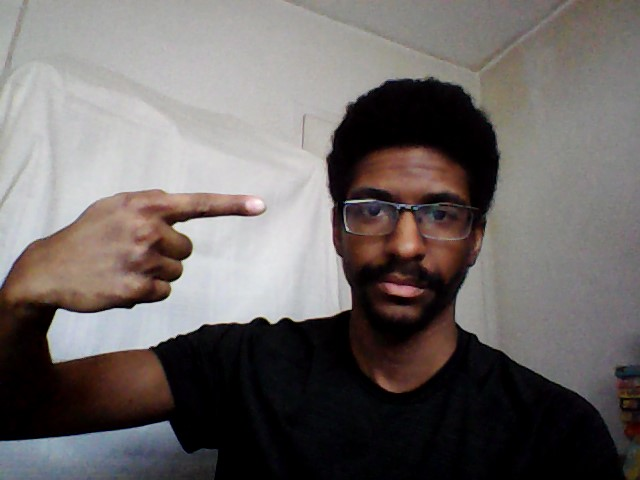g: (47, 184, 270, 311)
